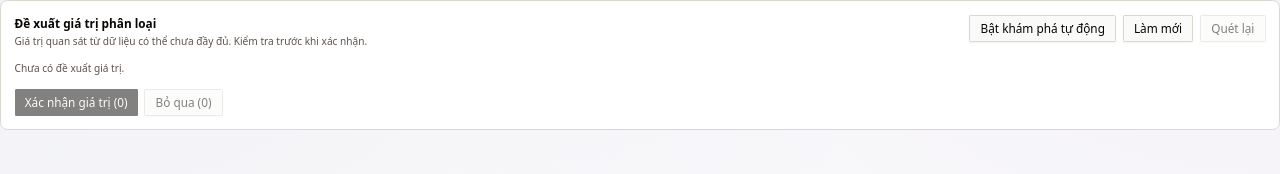
Test: requires enabling discovery before scan and respects availability
expect the text "Chưa có đề xuất giá trị." is shown: met, box [14,61,124,75]
expect the button "Quét lại" is disabled: met, box [1200,14,1266,42]
Click the button "Bật khám phá tự động" at (1043, 28), box [969,14,1116,42]
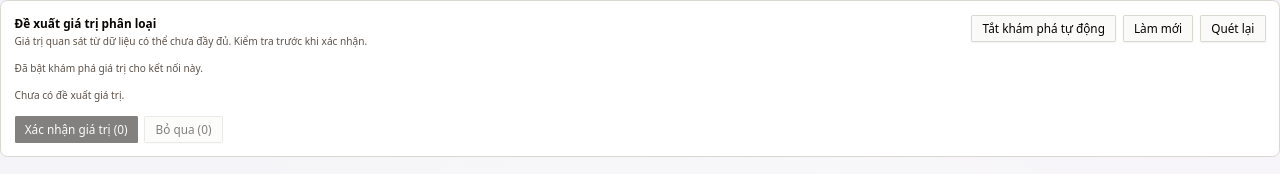
expect the button "Quét lại" is enabled: met, box [1200,14,1266,42]
